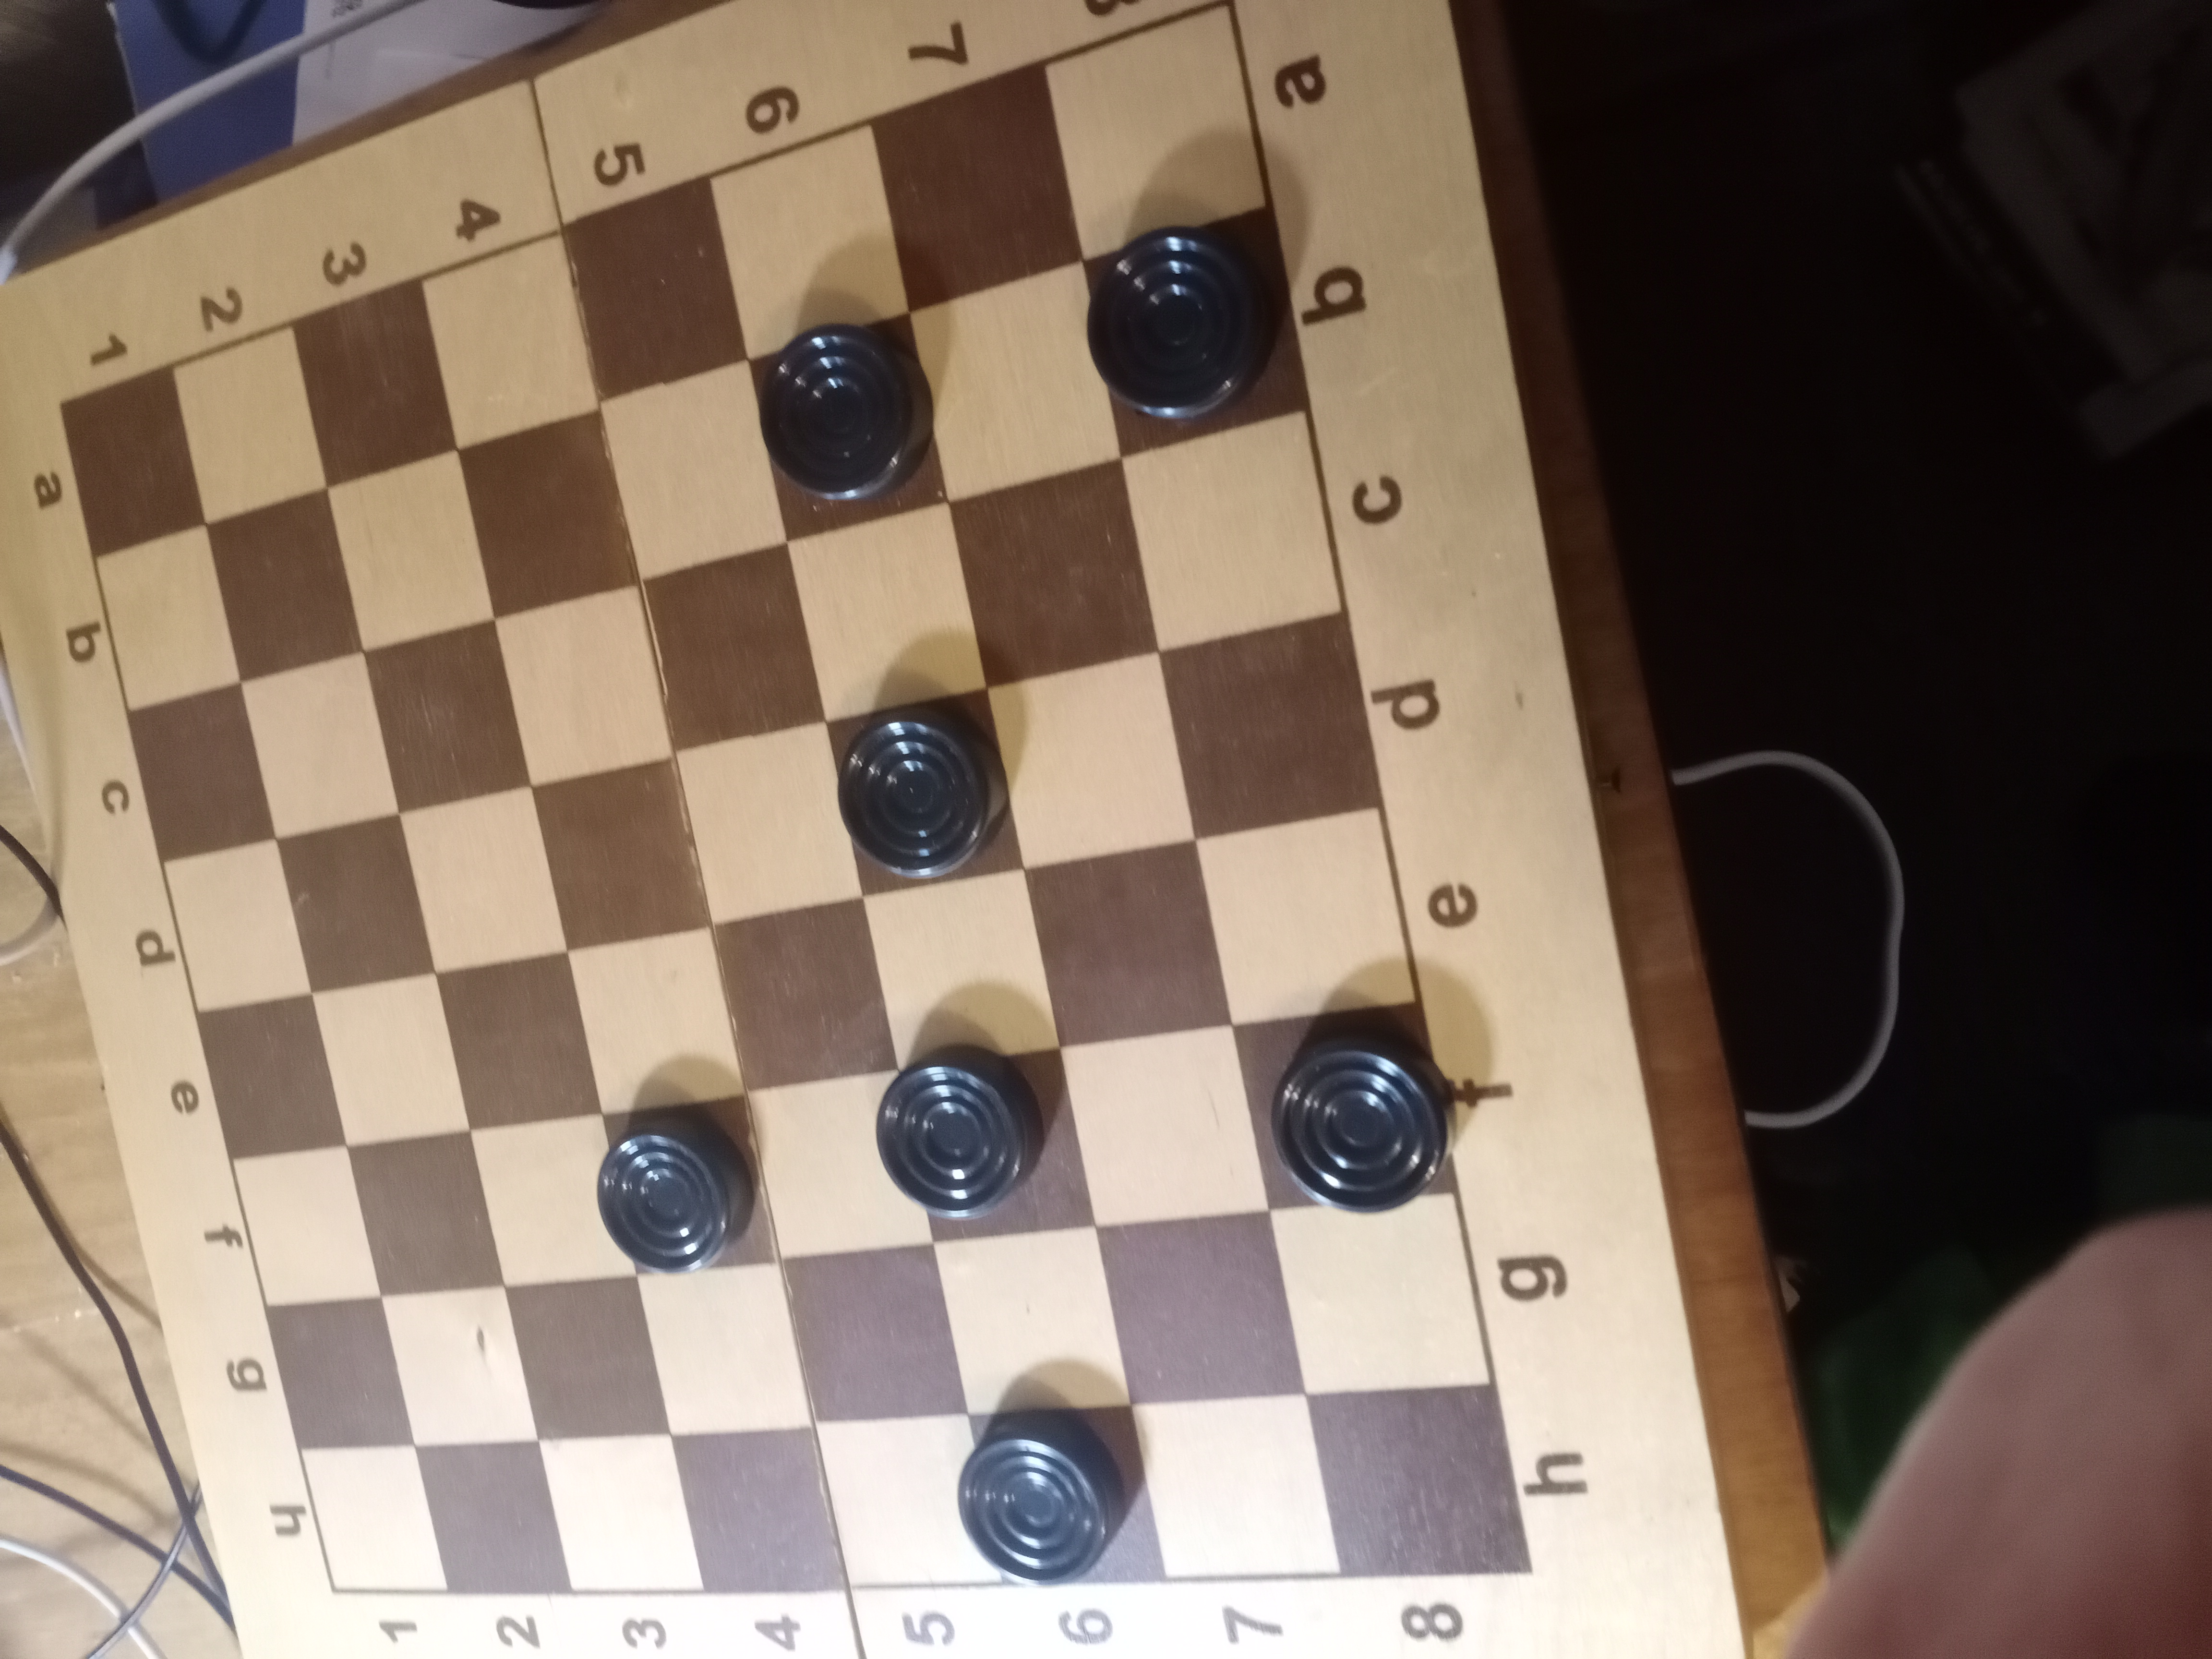Black_Draught: (1082, 206, 1308, 458), (1231, 1004, 1456, 1213), (749, 314, 949, 544), (874, 1042, 1096, 1243), (827, 690, 1024, 897), (956, 1408, 1167, 1584), (597, 1096, 777, 1274)
